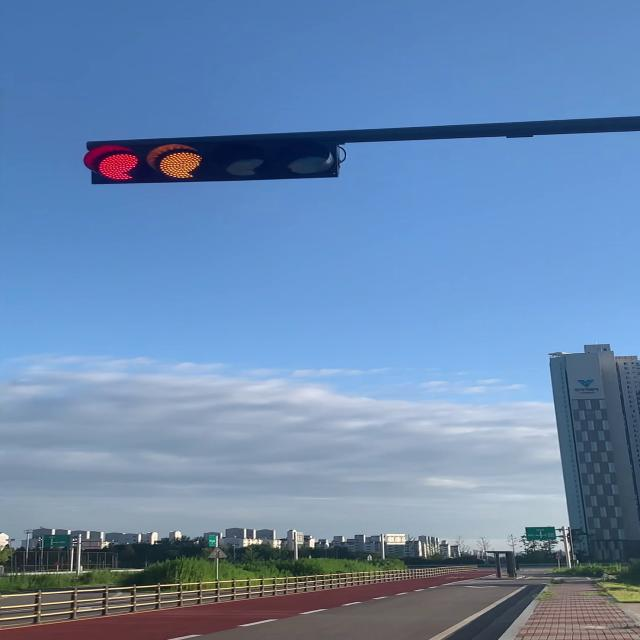yellow_light: (82, 139, 342, 183)
